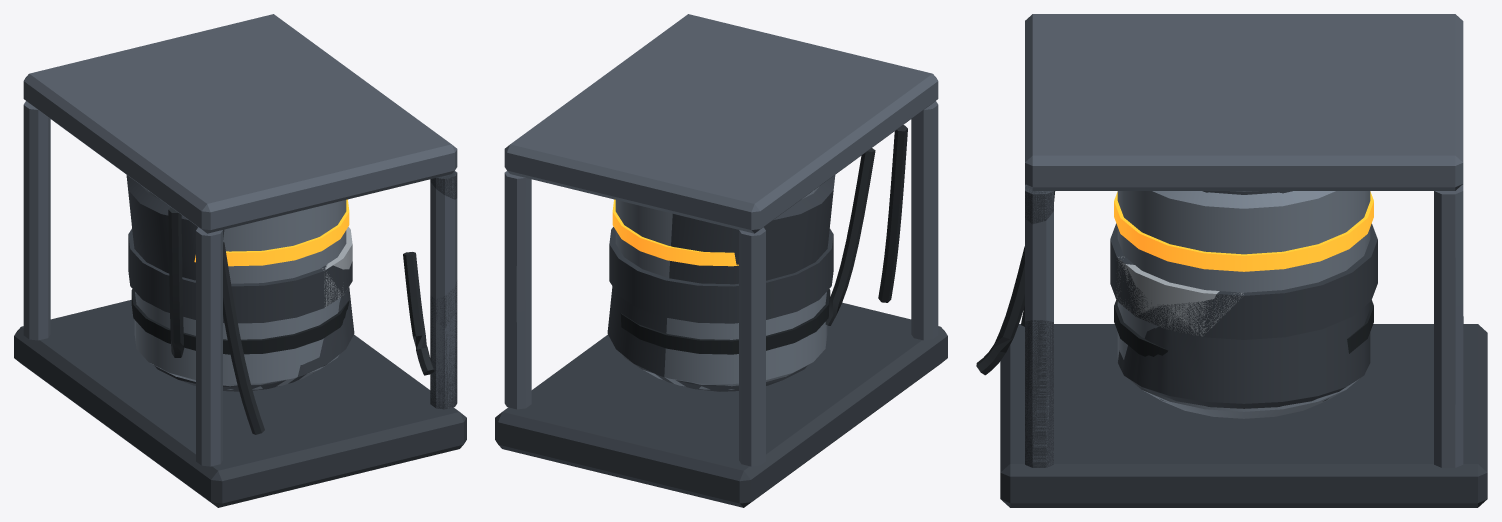
The model's file is shr_cmp_energy_cell_a.glb.
The picture shows the model from 3 angles, left to right: view 1: azimuth 30°, elevation 25°; view 2: azimuth 150°, elevation 25°; view 3: azimuth 270°, elevation 25°; orthographic projection. The views are drawn at different scales.
Parts seen in each view (by area): view 1: mesh_heavy, mesh_intact, mesh_light; view 2: mesh_heavy, mesh_intact, mesh_light; view 3: mesh_heavy, mesh_intact, mesh_light.
Part boxes in pixels (x1,y1,x2,y2): mesh_heavy: [14, 14, 466, 507]; mesh_intact: [23, 14, 457, 466]; mesh_light: [23, 107, 50, 338]; mesh_heavy: [495, 14, 947, 507]; mesh_intact: [512, 14, 938, 389]; mesh_light: [504, 173, 765, 466]; mesh_heavy: [976, 14, 1487, 507]; mesh_intact: [1025, 14, 1455, 467]; mesh_light: [1441, 191, 1463, 467].
Size of the model in its own units: 0.36 by 0.4 by 0.5247.
